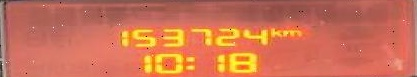0: (153, 52, 181, 73)
1: (139, 53, 151, 73), (117, 27, 129, 47), (214, 51, 222, 73)
2: (214, 27, 240, 46)
3: (156, 27, 184, 47)
4: (243, 27, 267, 44)
5: (130, 27, 155, 46)
7: (187, 25, 212, 44)
8: (228, 51, 256, 74)
X: (183, 54, 195, 69), (281, 28, 302, 36), (269, 26, 281, 36)
